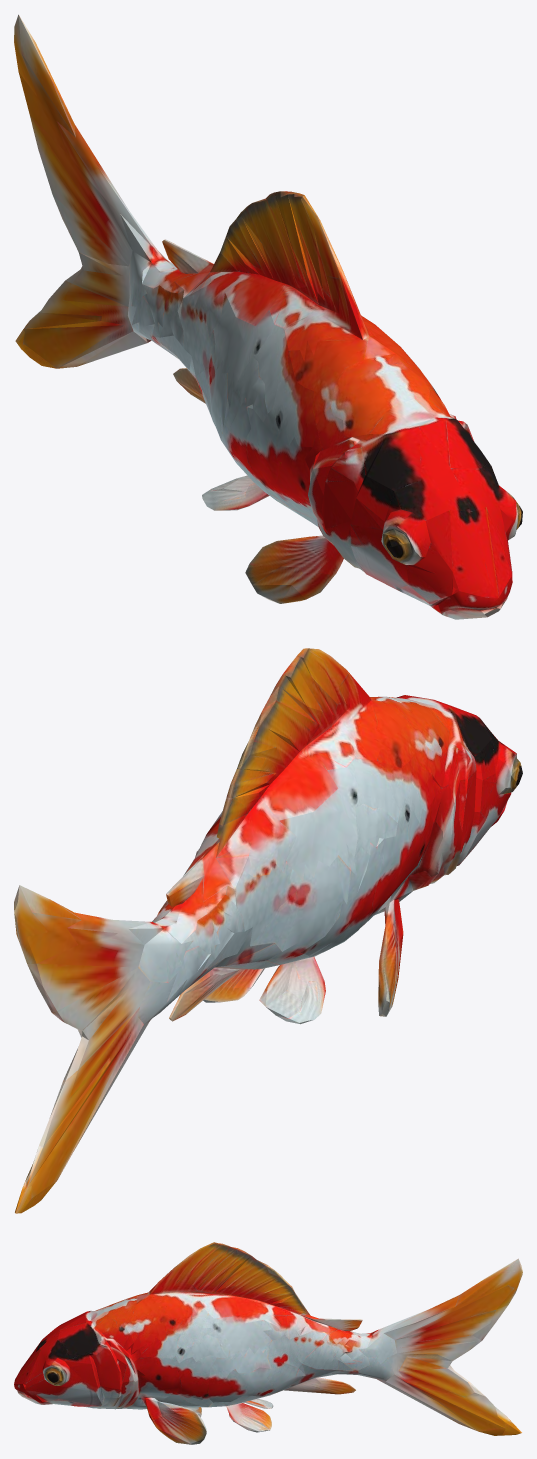
File: koi_fish.glb
3 views of the same model, one above another, from view 1: azimuth 30°, elevation 25°; view 2: azimuth 150°, elevation 25°; view 3: azimuth 270°, elevation 25° (orthographic). The views are drawn at different scales.
Bounding box in the file's own units: 0.3712 × 0.8138 × 1.9.
1 material, 1 textured.
